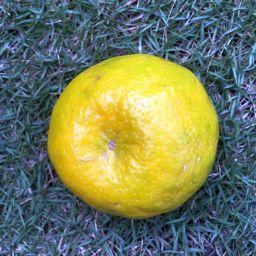orange: (45, 52, 221, 221)
